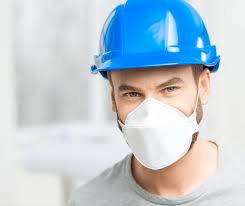Helmet: (87, 1, 219, 81)
Mask: (111, 103, 203, 169)
